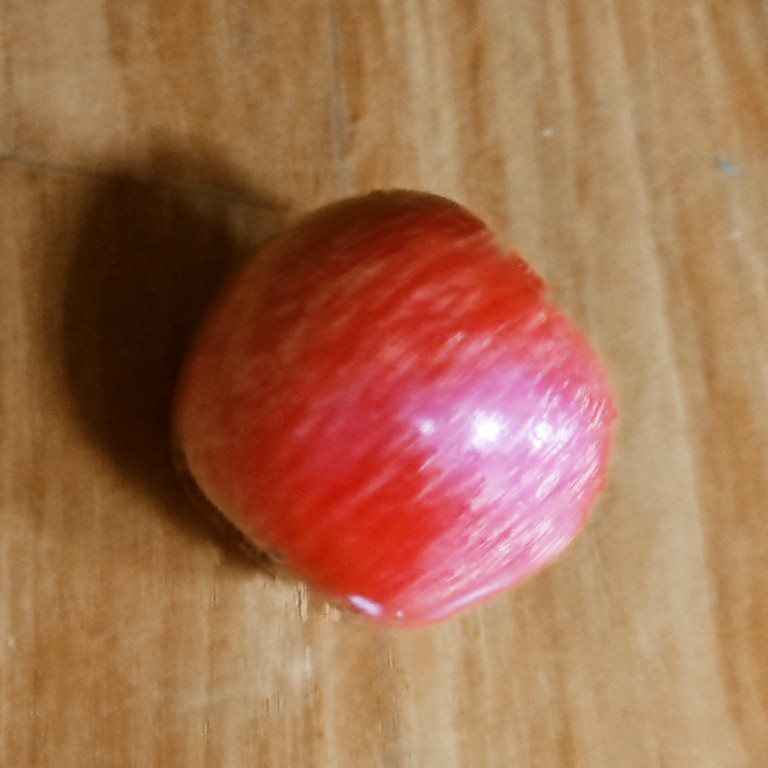fruit_apple: (166, 184, 621, 633)
